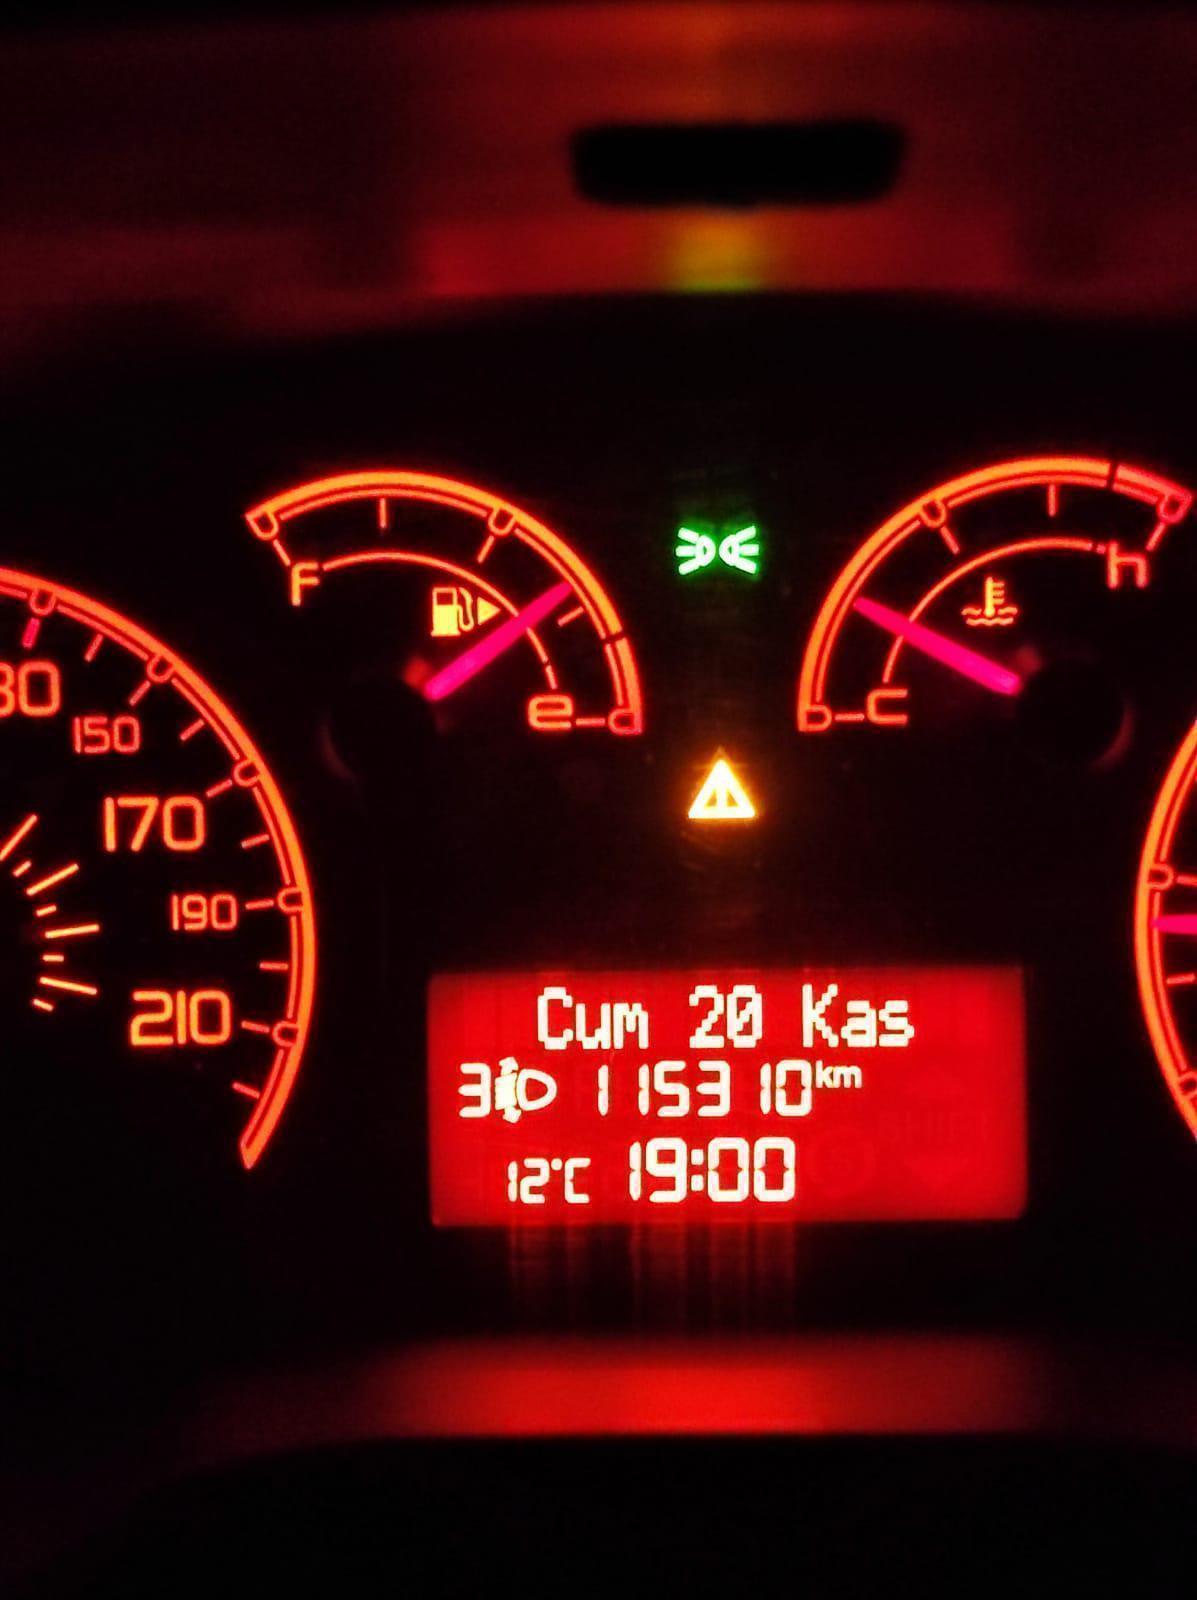0: (752, 1134, 798, 1205), (705, 1134, 751, 1204), (725, 983, 764, 1049), (775, 1057, 814, 1119)
1: (625, 1140, 644, 1202), (593, 1062, 614, 1119), (634, 1061, 651, 1119), (757, 1061, 772, 1116), (504, 1158, 519, 1204)
2: (687, 983, 725, 1049), (521, 1156, 549, 1207)
3: (693, 1058, 732, 1120), (456, 1061, 492, 1120)
5: (653, 1060, 692, 1119)
9: (644, 1136, 689, 1205)
X: (534, 982, 575, 1053), (801, 983, 840, 1049), (878, 998, 918, 1048), (575, 1000, 614, 1051), (840, 998, 878, 1049), (611, 1000, 650, 1049), (562, 1156, 593, 1207), (689, 1146, 705, 1195), (835, 1065, 863, 1091), (815, 1060, 835, 1090)
odometer: (415, 951, 1041, 1243)
